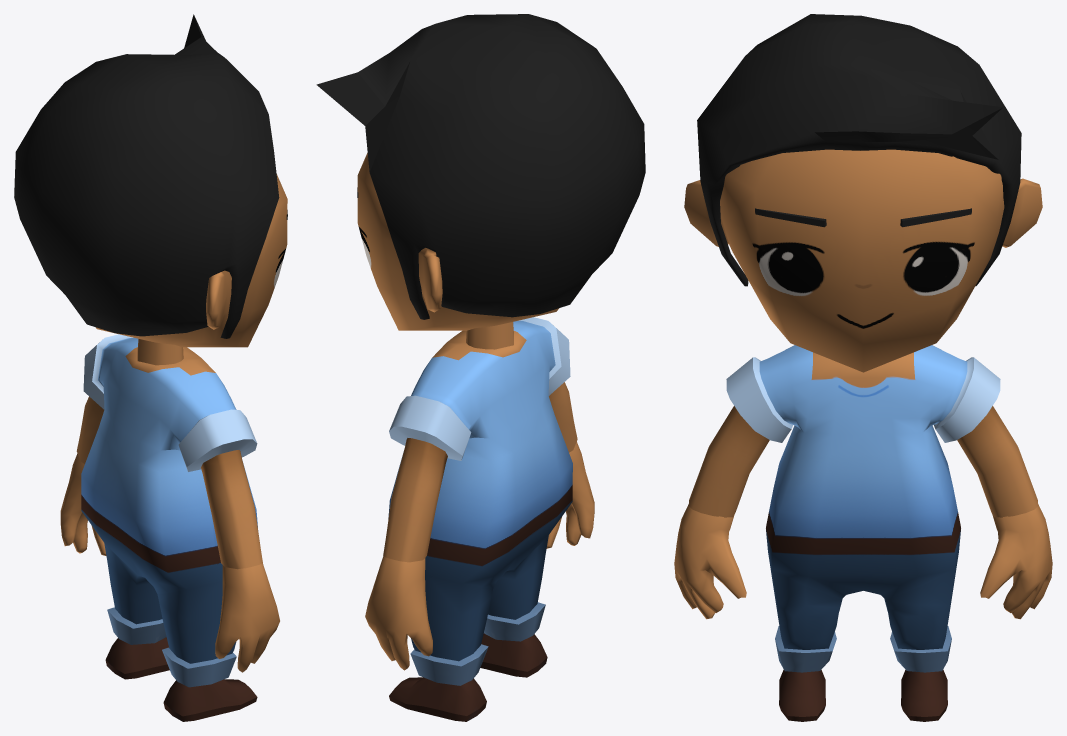
The model's file is Character_2A.fbx.
The picture shows the model from 3 angles, left to right: view 1: azimuth 30°, elevation 25°; view 2: azimuth 150°, elevation 25°; view 3: azimuth 270°, elevation 25°; orthographic projection. The views are drawn at different scales.
Visible parts, largest first — view 1: Character2A; view 2: Character2A; view 3: Character2A.
Boxes of the visible parts, left/top/right/bottom form: Character2A: left=14, top=14, right=287, bottom=721; Character2A: left=316, top=14, right=645, bottom=721; Character2A: left=674, top=14, right=1052, bottom=721.
Bounding box in the file's own units: 47.26 × 125 × 64.49.
